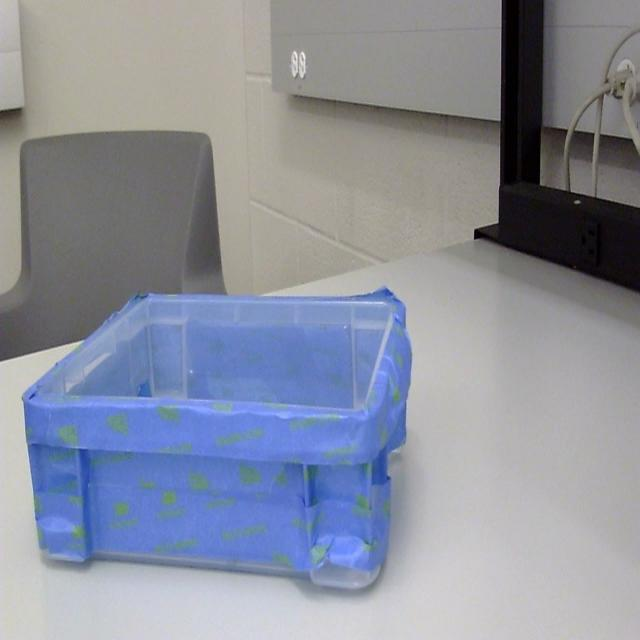bucket: (21, 288, 414, 596)
